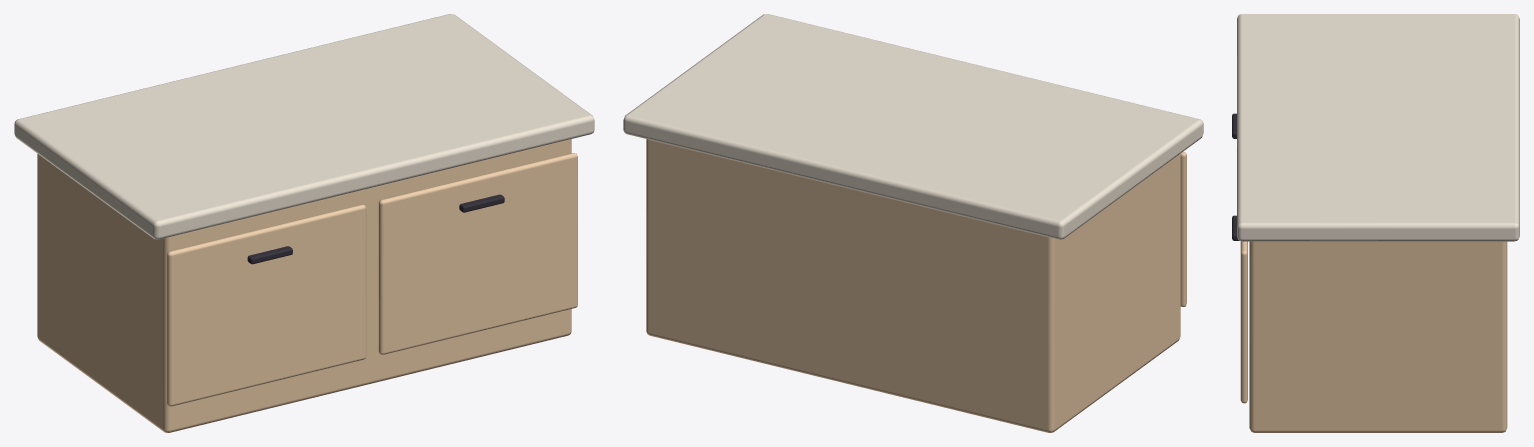
The model's file is show_kitchen_island.glb.
3 views of the same model, side by side, from view 1: azimuth 30°, elevation 25°; view 2: azimuth 150°, elevation 25°; view 3: azimuth 270°, elevation 25° (orthographic).
Size of the model in its own units: 2.4 by 1.15 by 1.37.
